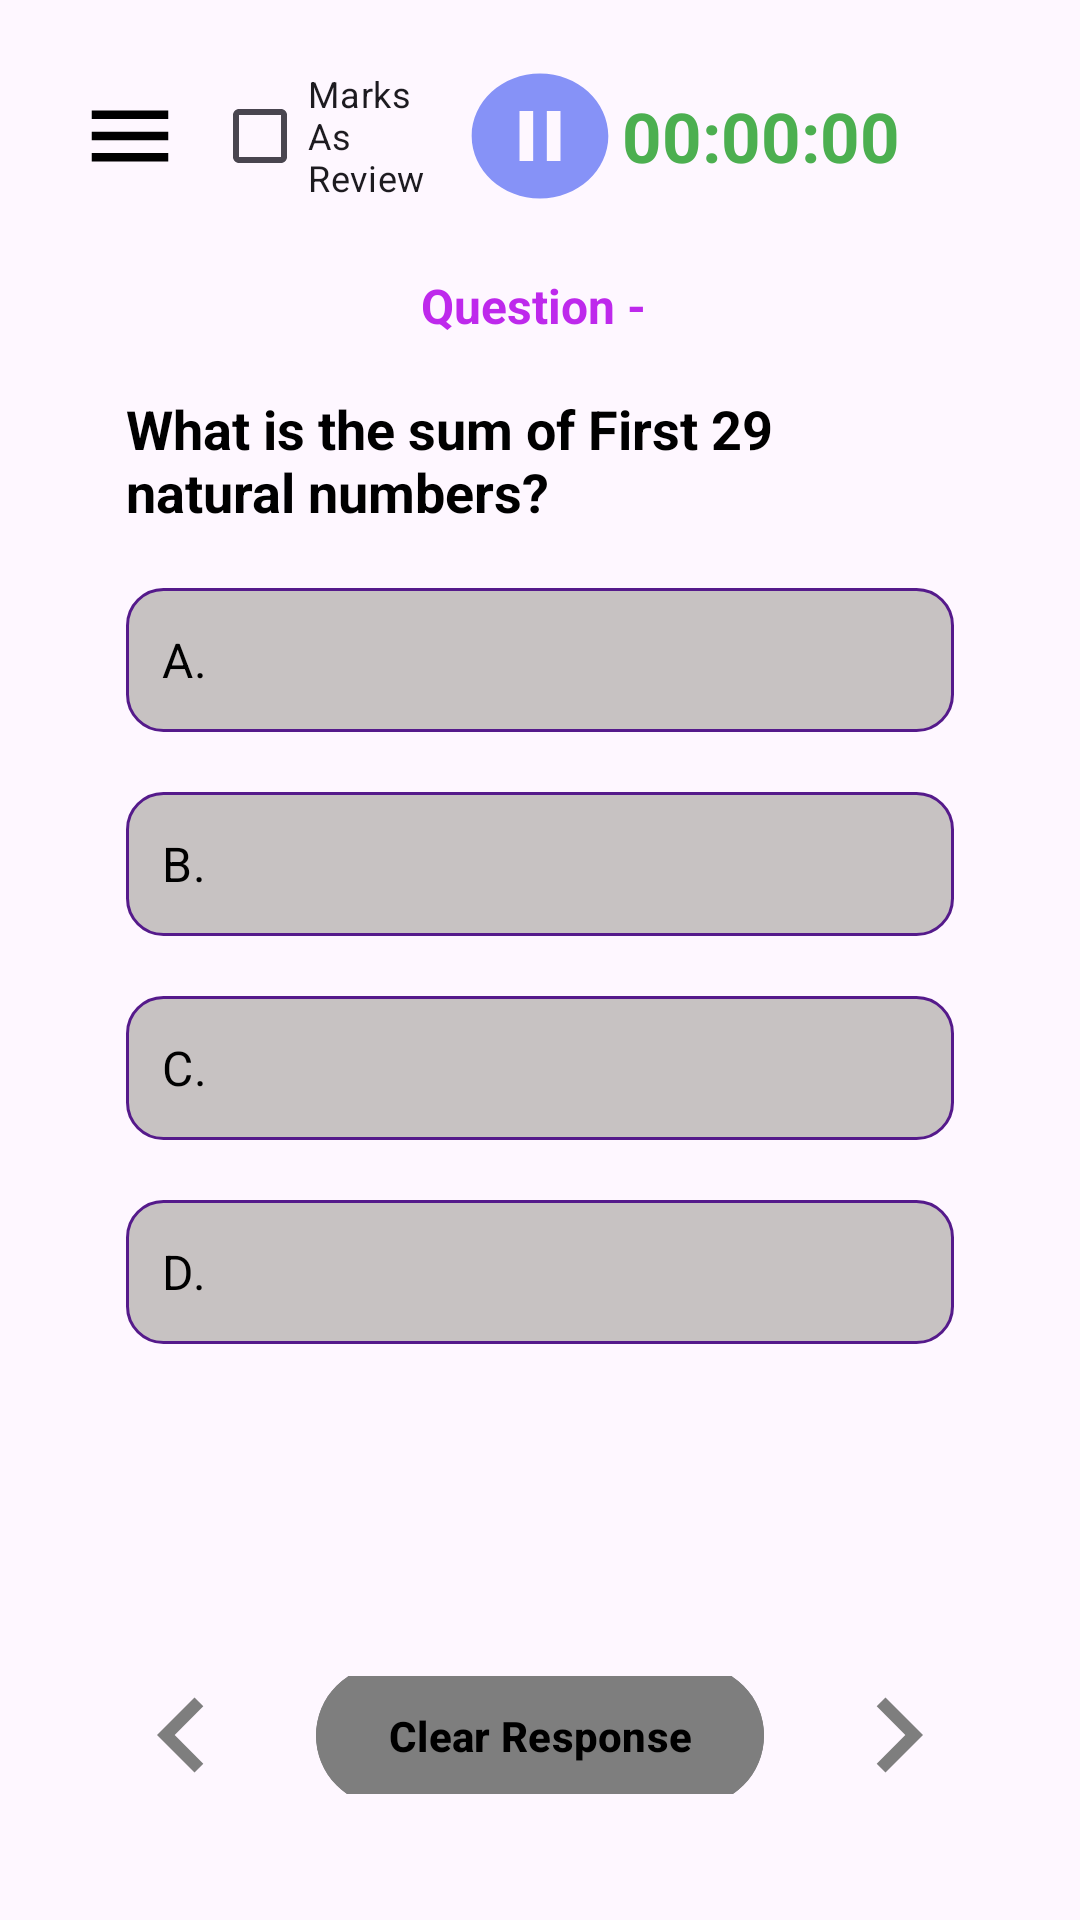

Icon bounding boxes for this 1080px x 1920px phone screenshot, format (x1, y1, x2, y2):
Menu Button: (91, 110, 169, 162)
navigate before: (157, 1697, 203, 1773)
navigate next: (877, 1697, 923, 1773)
pause circle: (471, 73, 609, 199)
